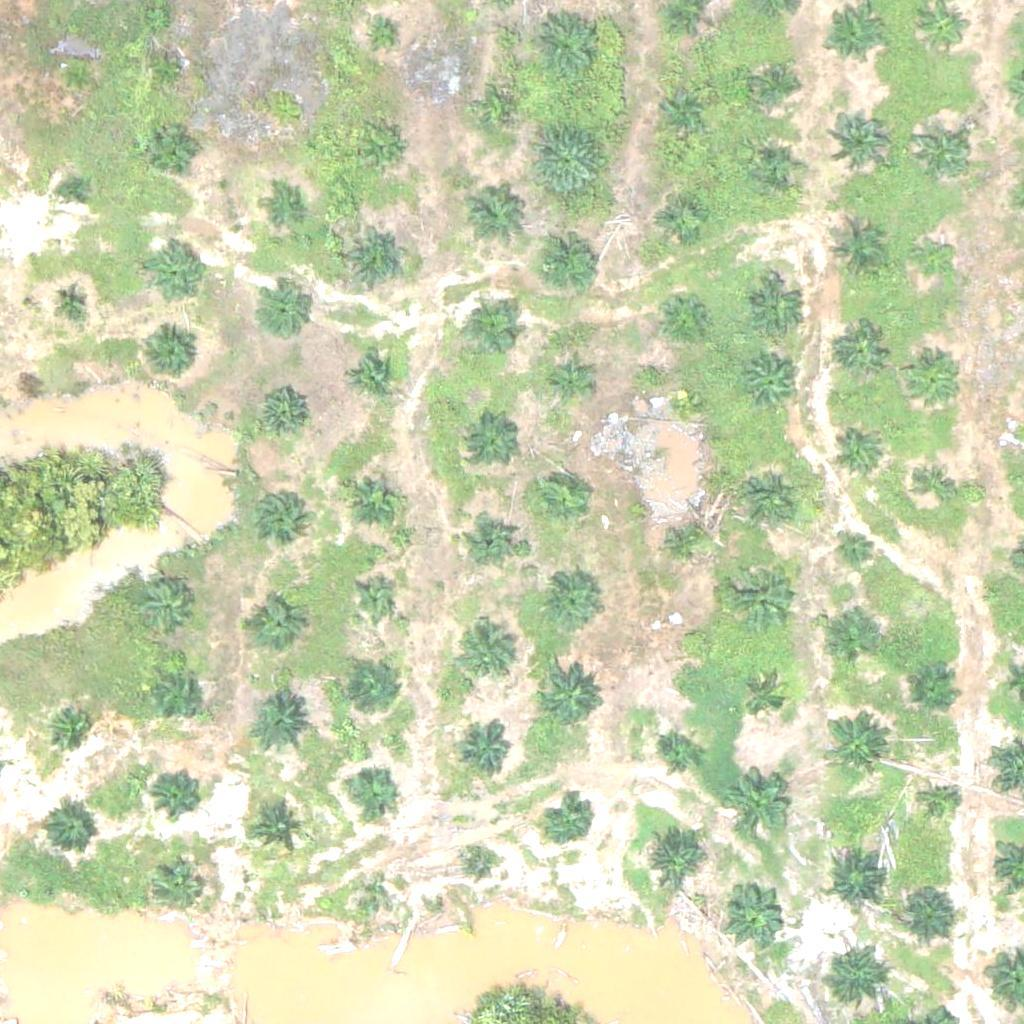Kelapa_Sawit: (527, 8, 602, 84), (531, 226, 606, 302), (726, 552, 801, 628), (531, 122, 606, 198), (723, 772, 786, 835), (460, 181, 523, 244), (745, 277, 808, 340), (248, 695, 311, 758), (345, 227, 408, 290), (820, 949, 883, 1012), (719, 881, 782, 944), (824, 8, 886, 71), (822, 713, 884, 776), (539, 661, 601, 724), (457, 624, 519, 687), (737, 469, 799, 532), (825, 221, 887, 284), (912, 122, 974, 185), (828, 105, 890, 168), (536, 571, 598, 634), (139, 324, 201, 387), (343, 466, 405, 529), (143, 242, 205, 305), (642, 826, 704, 889), (742, 356, 804, 418), (827, 851, 889, 913), (894, 879, 956, 941), (918, 1, 968, 52), (346, 762, 396, 813), (350, 663, 400, 714), (248, 600, 298, 651), (259, 286, 309, 337), (142, 585, 192, 636), (153, 668, 203, 719), (153, 766, 203, 817), (253, 805, 303, 856), (256, 387, 306, 438), (347, 351, 397, 402), (149, 123, 199, 174), (461, 728, 511, 778), (542, 795, 592, 845), (468, 512, 518, 562), (471, 306, 521, 356), (467, 416, 517, 466), (657, 289, 707, 339), (656, 193, 706, 243), (838, 324, 888, 374), (908, 356, 958, 406), (821, 619, 871, 669), (534, 472, 584, 522), (253, 490, 303, 540), (44, 806, 94, 856), (907, 666, 957, 716), (738, 675, 788, 725), (653, 732, 703, 782), (661, 515, 711, 565), (155, 867, 205, 917), (47, 702, 97, 752), (750, 59, 800, 109), (752, 143, 802, 193), (658, 79, 708, 129), (833, 428, 883, 478), (549, 362, 587, 400), (262, 192, 300, 230), (923, 787, 961, 825), (836, 530, 874, 568), (913, 241, 951, 279), (917, 466, 955, 504), (367, 135, 404, 173), (356, 579, 393, 617), (54, 283, 91, 321), (58, 59, 96, 96), (151, 53, 188, 91), (489, 99, 514, 125), (467, 848, 492, 873), (370, 25, 395, 50), (670, 390, 695, 415), (677, 625, 702, 650), (60, 180, 85, 205), (372, 882, 397, 907)
